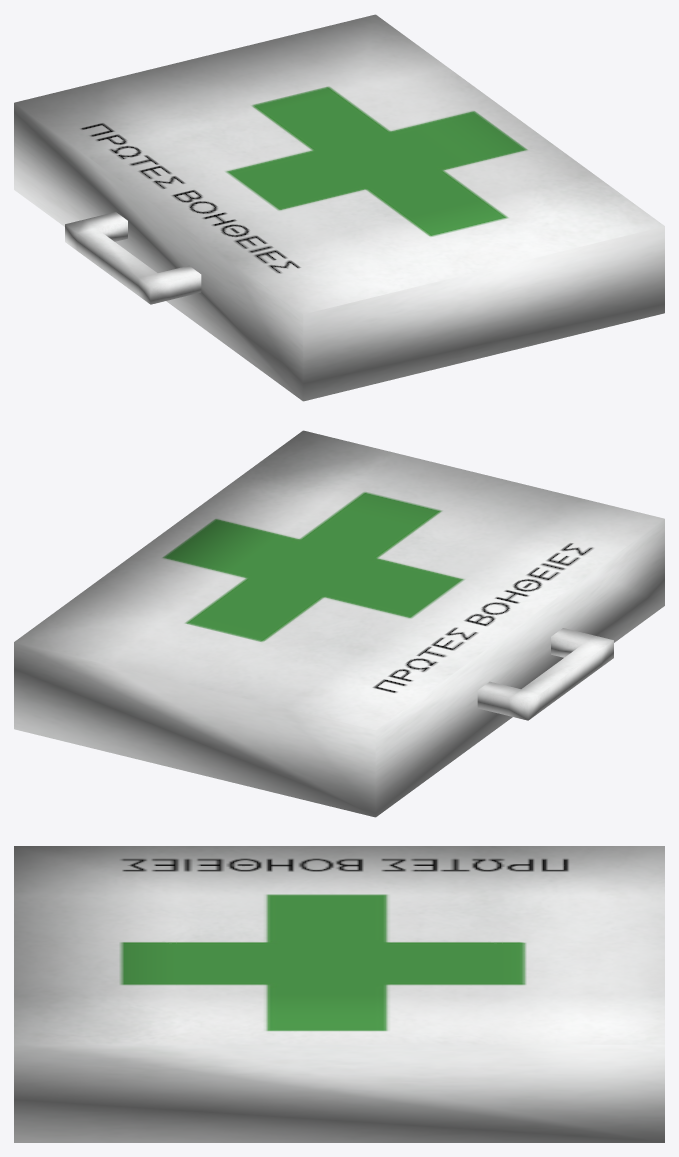
File: medkit.obj
3 renders of one model, top to bottom at view 1: azimuth 30°, elevation 25°; view 2: azimuth 150°, elevation 25°; view 3: azimuth 270°, elevation 25°, orthographic. The views are drawn at different scales.
Visible parts, largest first — view 1: AidKit.001_Cube.001; view 2: AidKit.001_Cube.001; view 3: AidKit.001_Cube.001.
Part boxes in pixels (box(x1,y1,x2,y2)): AidKit.001_Cube.001: box(14, 14, 664, 401); AidKit.001_Cube.001: box(14, 430, 664, 817); AidKit.001_Cube.001: box(14, 846, 664, 1142).
Size of the model in its own units: 1.47 by 0.2974 by 1.79.
1 material, 1 textured.
